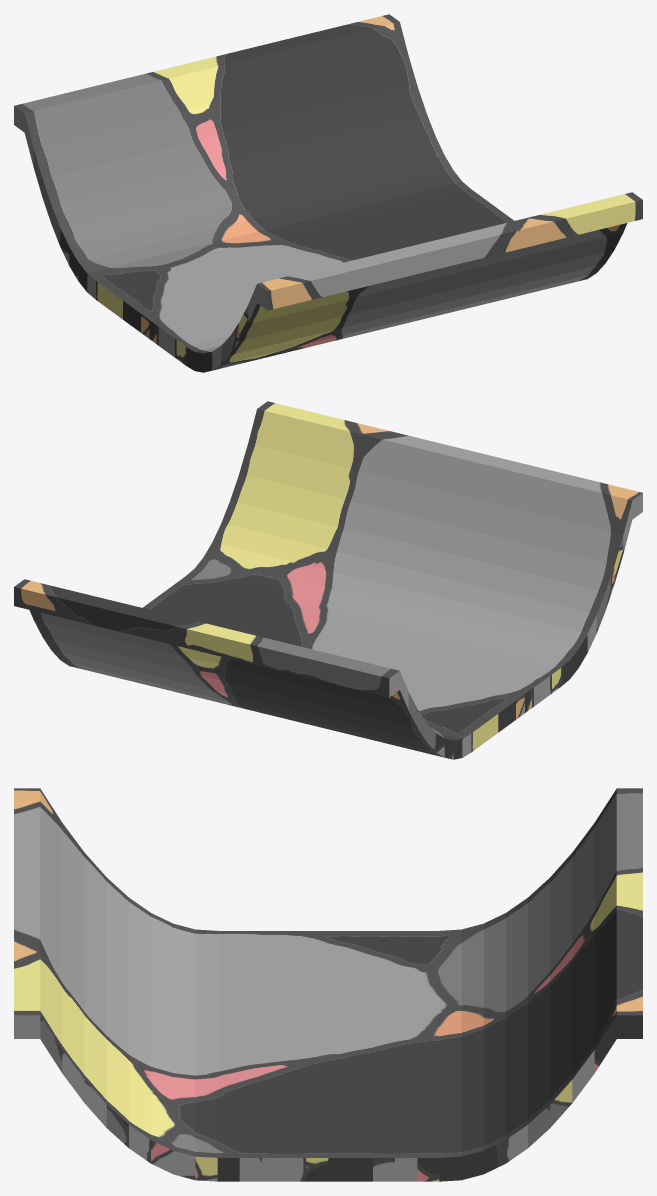
File: platform.fbx
3 views of the same model, one above another, from view 1: azimuth 30°, elevation 25°; view 2: azimuth 150°, elevation 25°; view 3: azimuth 270°, elevation 25° (orthographic). The views are drawn at different scales.
Parts seen in each view (by area): view 1: Platform; view 2: Platform; view 3: Platform.
Boxes of the visible parts, bbox=[...] form: Platform: bbox=[14, 14, 642, 372]; Platform: bbox=[14, 401, 642, 759]; Platform: bbox=[14, 788, 642, 1181].
Bounding box in the file's own units: 41 × 14 × 48.
